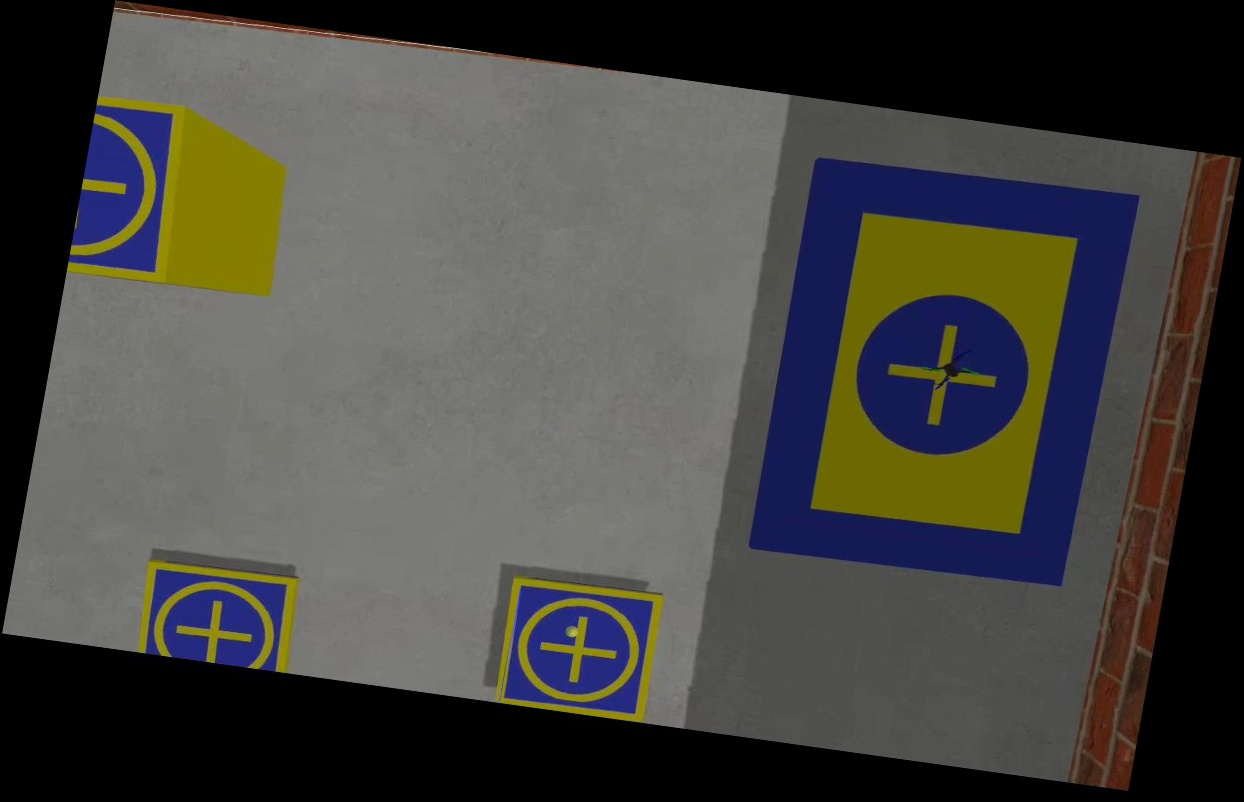large_base: (744, 148, 1142, 593)
small_base: (488, 570, 666, 722), (66, 93, 200, 289), (131, 553, 303, 673)
